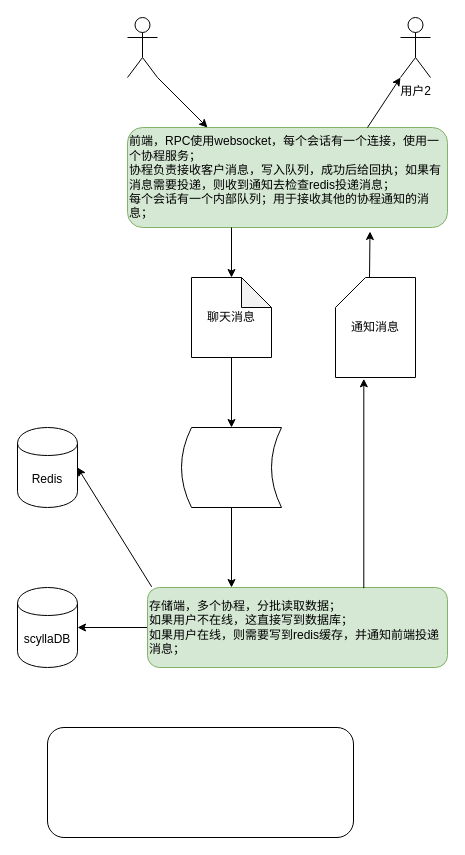
The diagram is 465 pixels wide and 855 high, and some of its shapes have lost their labels. The shapes that lost their labels are listed below. From the top down, each one's centre as x and y in pixels, then its label:
At (142,47): "用户1".
At (231,467): "kafka".
At (200,782): "问题1：当用户掉线时候，需要及时关闭队列；并将数据转移到redis; 问题2：发群组消息时，每个在线用户都需要推送；".
